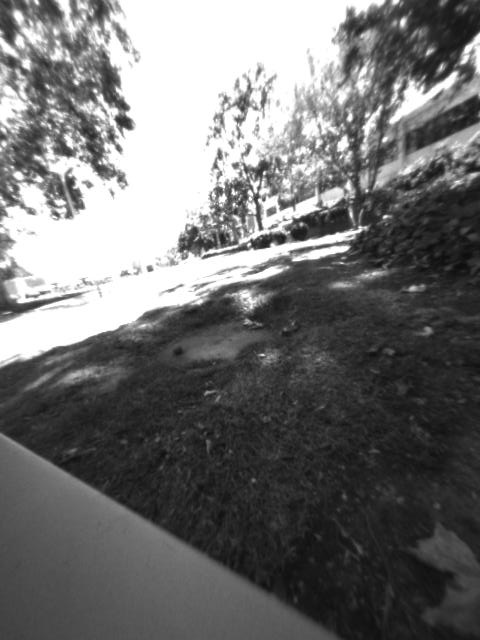dogtoy: (164, 337, 192, 363)
